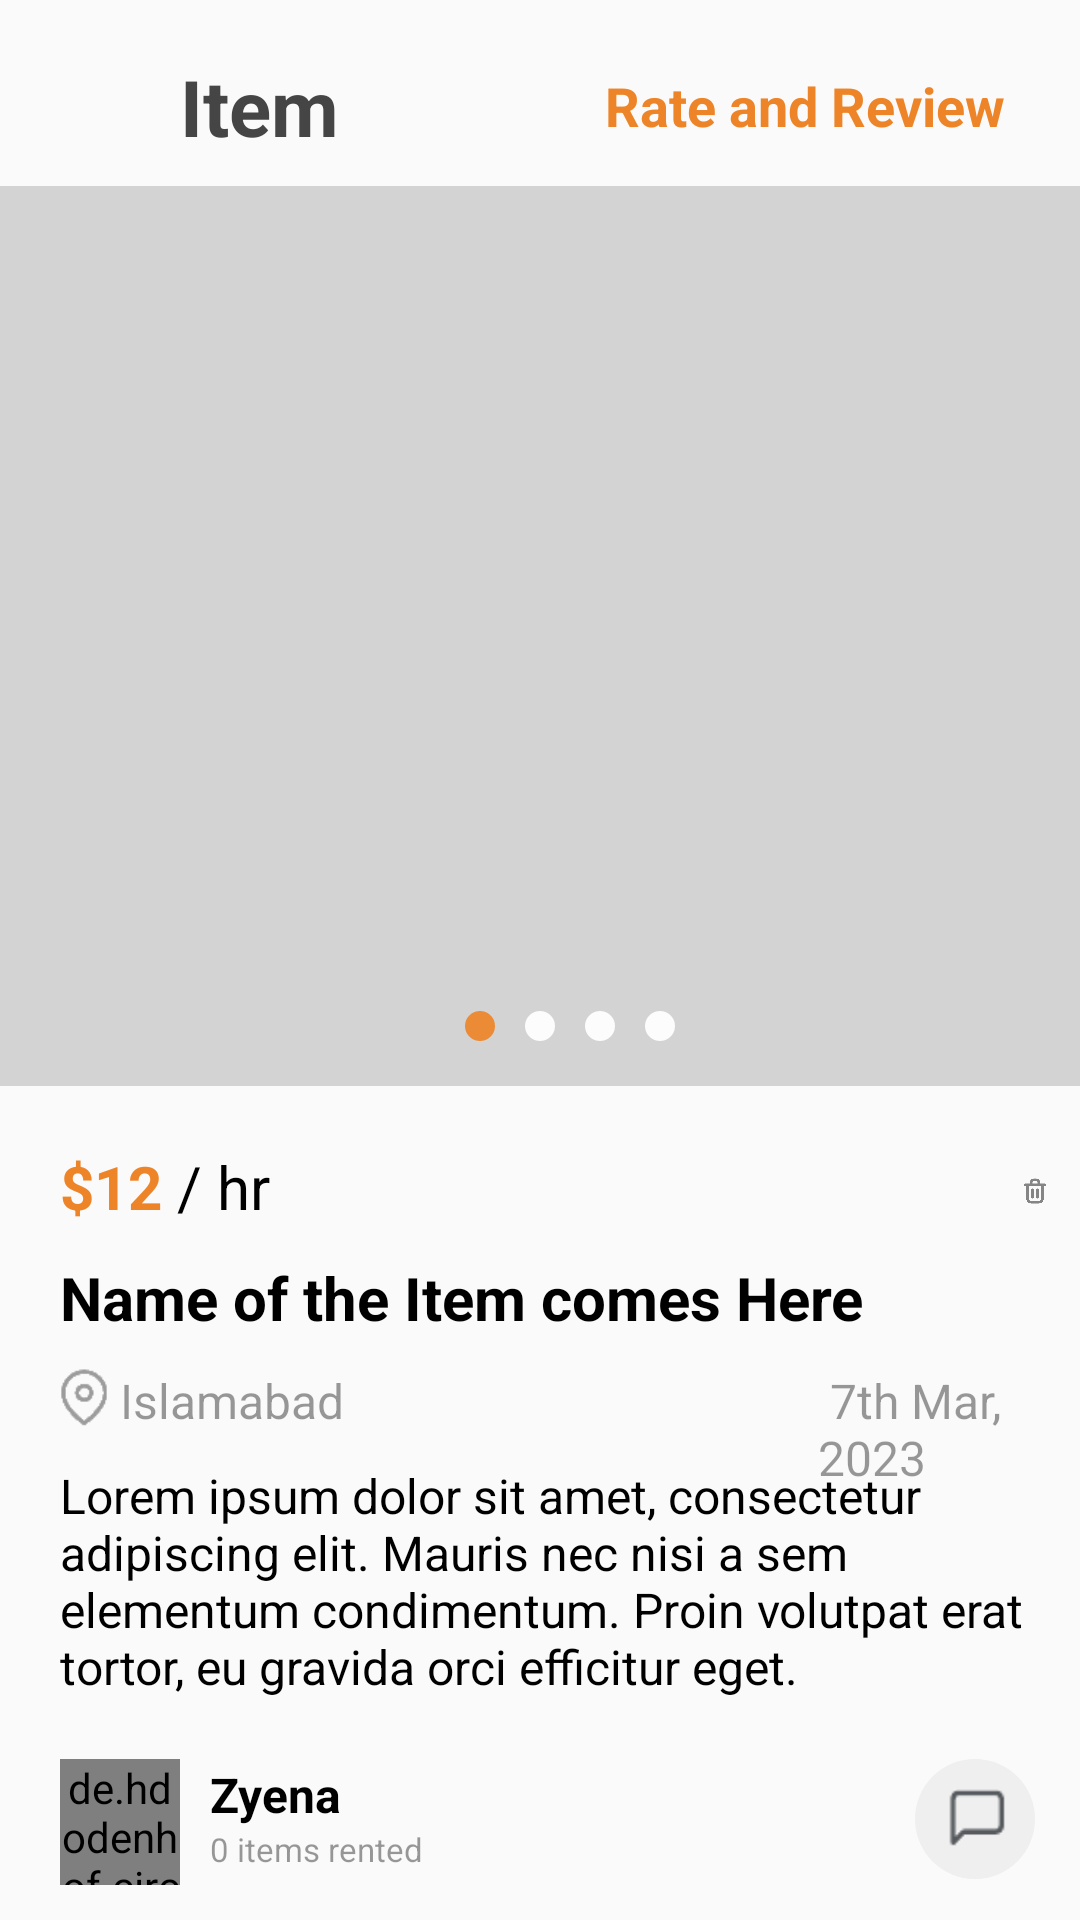

Icon click points for this 1080x1920 phone screenshot, format (x=x, y=y):
delete: (x=1035, y=1191)
location: (x=84, y=1397)
